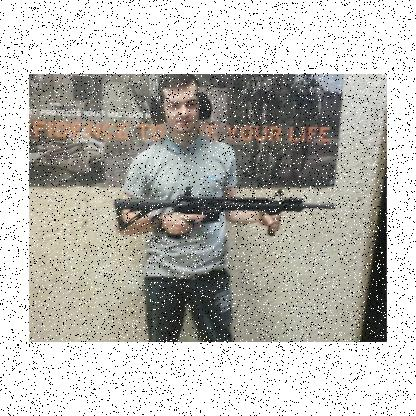gun: (114, 186, 336, 239)
